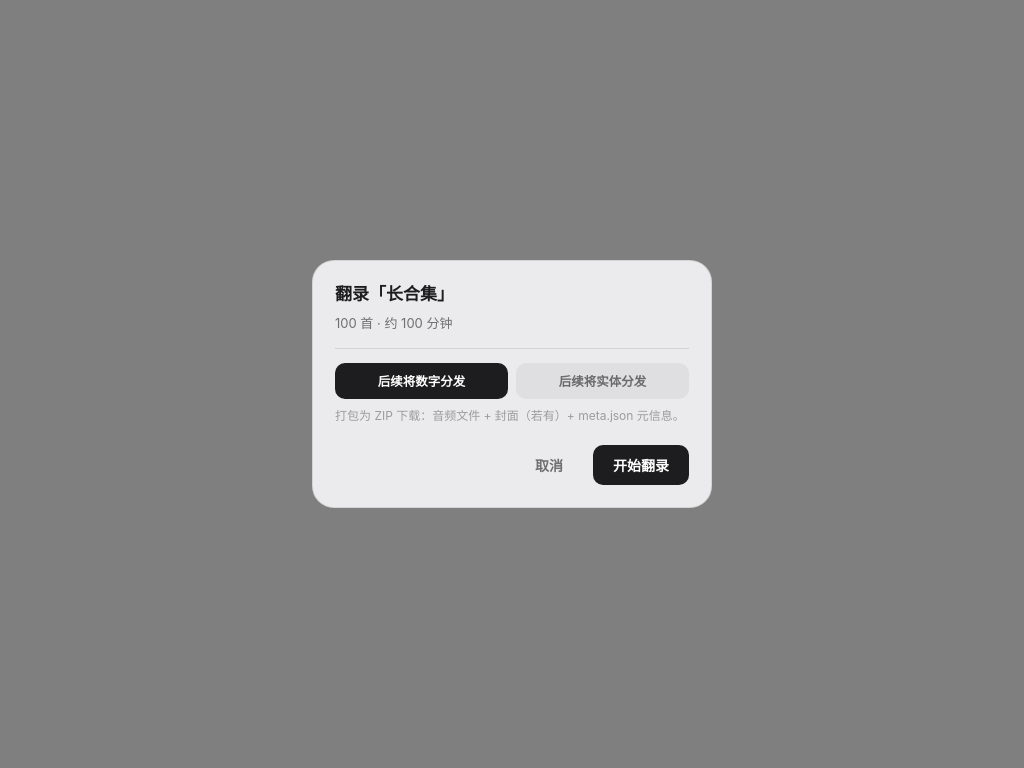
RipDialog › 总时长超出音频 CD 上限：音频 CD 禁用并给原因
What coordinates should you click on to do the following:
click the radio button with test id "rip-dist-physical"
I would click on:
 (602, 381)
Its box is x1=516 y1=363 x2=689 y2=399.
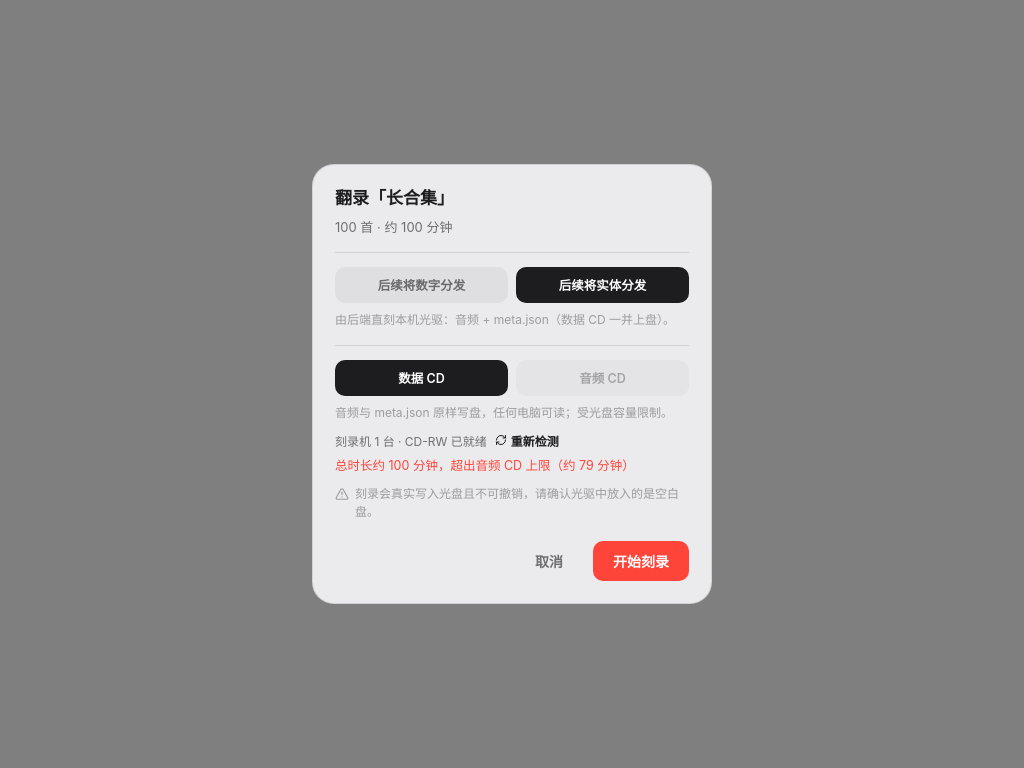
Result: the element with test id "rip-caps" shows "刻录机 1 台" at x1=335 y1=434 x2=487 y2=448
Result: the radio button with test id "rip-disc-audio" is disabled at x1=516 y1=360 x2=689 y2=396
Result: the text with test id "rip-audio-reason" shows "超出音频 CD 上限" at x1=335 y1=458 x2=635 y2=472
